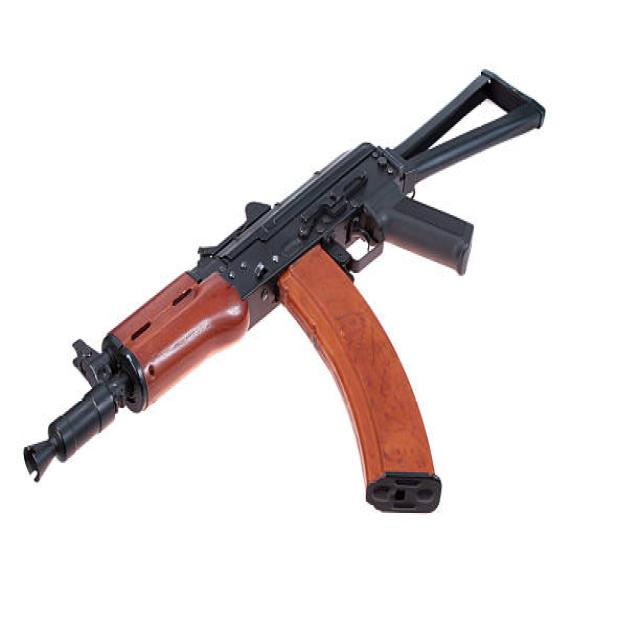rifle: (28, 62, 557, 537)
